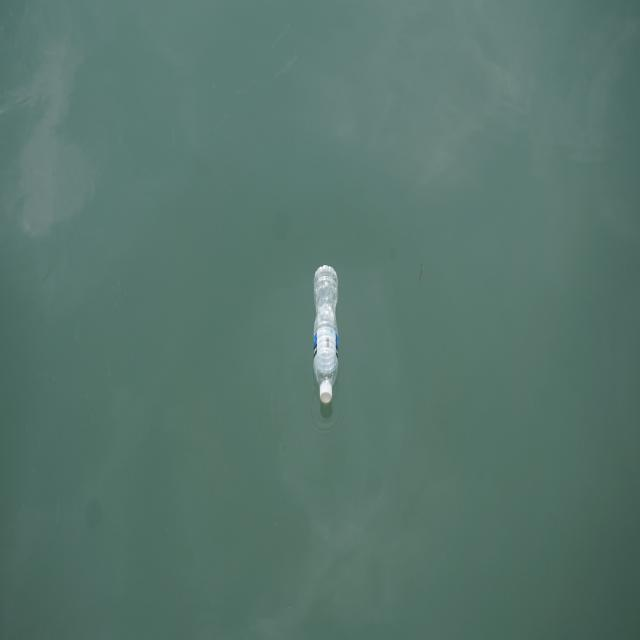Botol Plastik: (312, 261, 343, 412)
